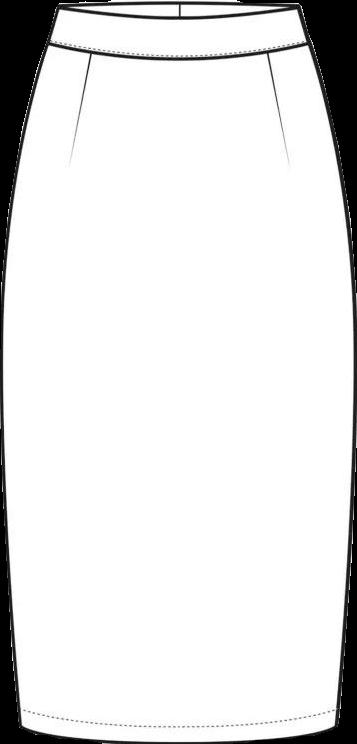Hemline: (19, 720, 338, 743)
Waistline: (45, 36, 310, 64), (57, 1, 295, 24)
